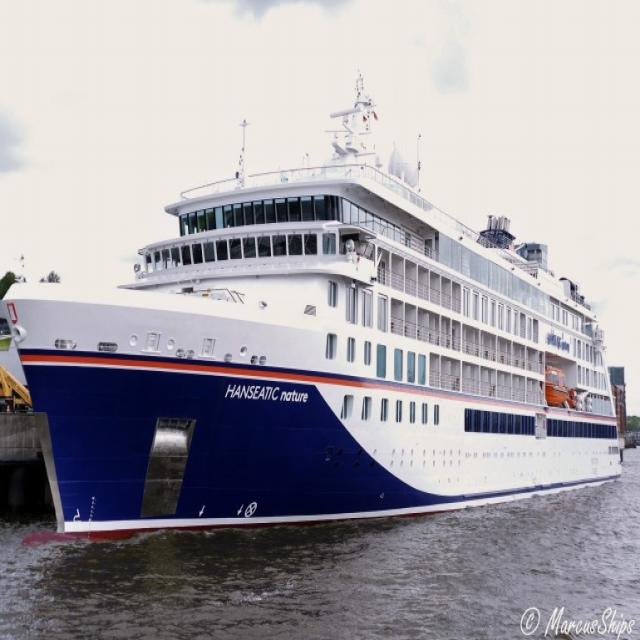cruises: (1, 102, 627, 560)
